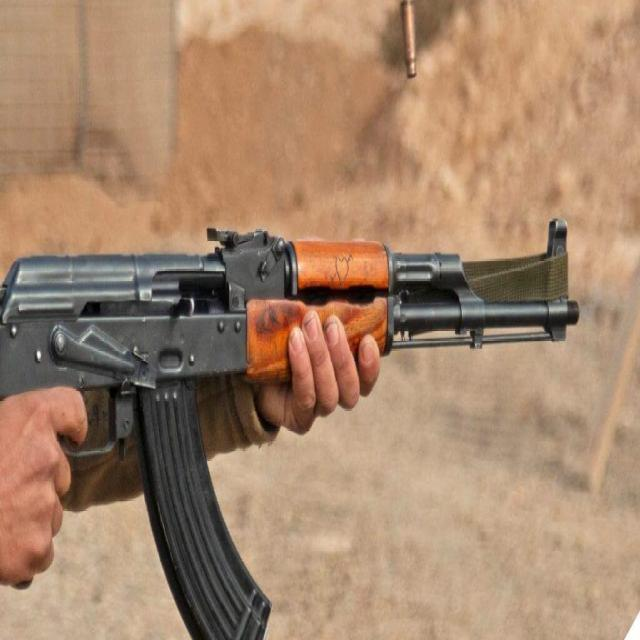Rifle: (0, 220, 581, 640)
